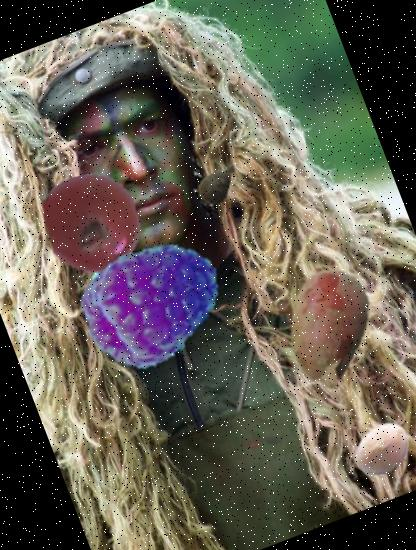Beetroot: (181, 150, 252, 220)
Hazelnut: (342, 409, 416, 490)
Potato: (249, 248, 408, 407)
Raspberry: (56, 208, 238, 390)
Redcurrant: (30, 159, 158, 287)
